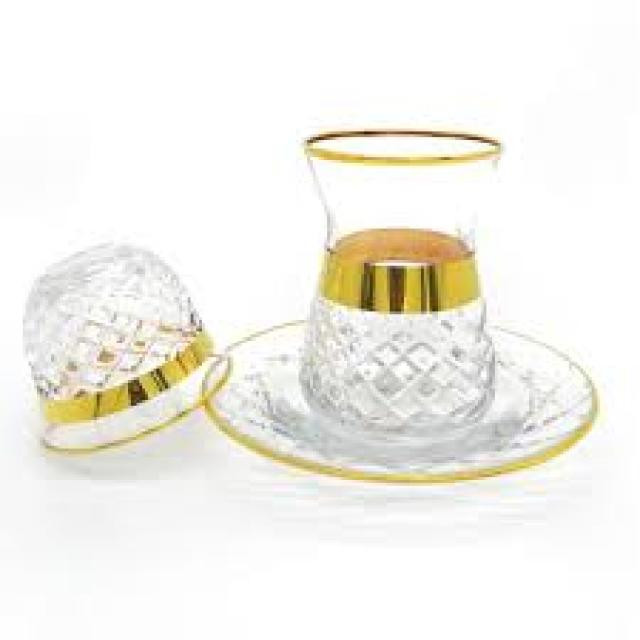Dry: (200, 124, 602, 490), (23, 246, 228, 455)
